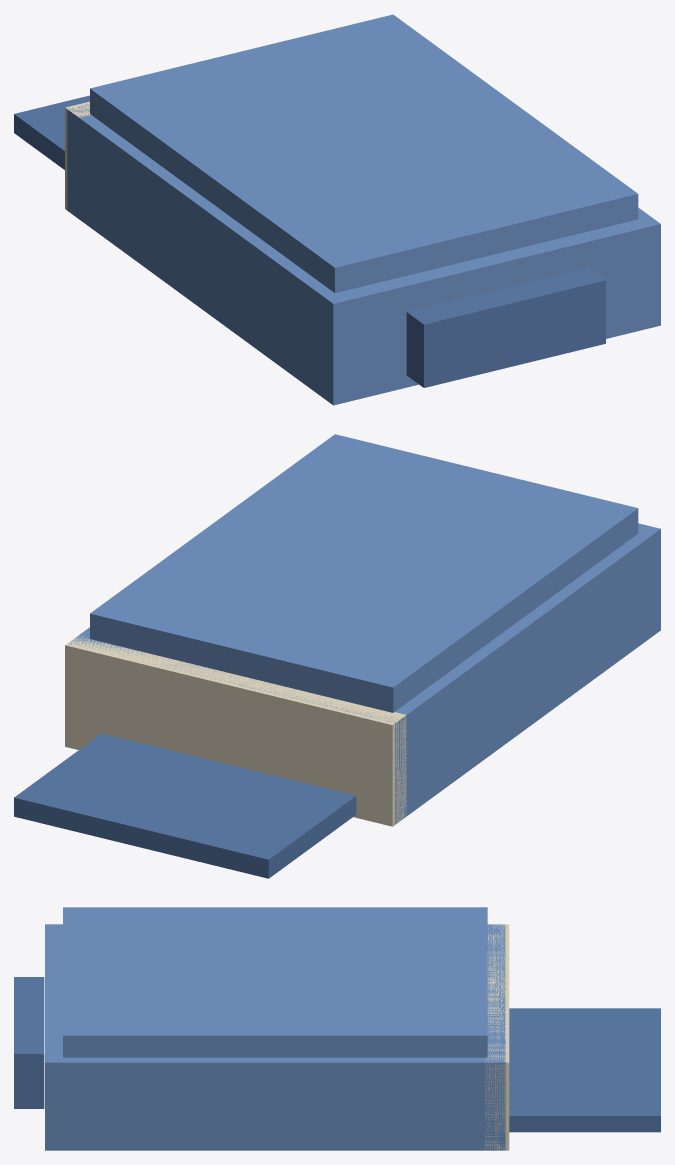
Rendered from bone_caminhoneiro.glb.
3 views of the same model, one above another, from view 1: azimuth 30°, elevation 25°; view 2: azimuth 150°, elevation 25°; view 3: azimuth 270°, elevation 25° (orthographic). The views are drawn at different scales.
Parts seen in each view (by area): view 1: bone_caminhoneiro; view 2: bone_caminhoneiro; view 3: bone_caminhoneiro.
Part boxes in pixels (x1,y1,x2,y2): bone_caminhoneiro: (14,14,660,405); bone_caminhoneiro: (14,434,660,878); bone_caminhoneiro: (14,907,660,1150).
Size of the model in its own units: 0.54 by 0.2 by 1.07.
